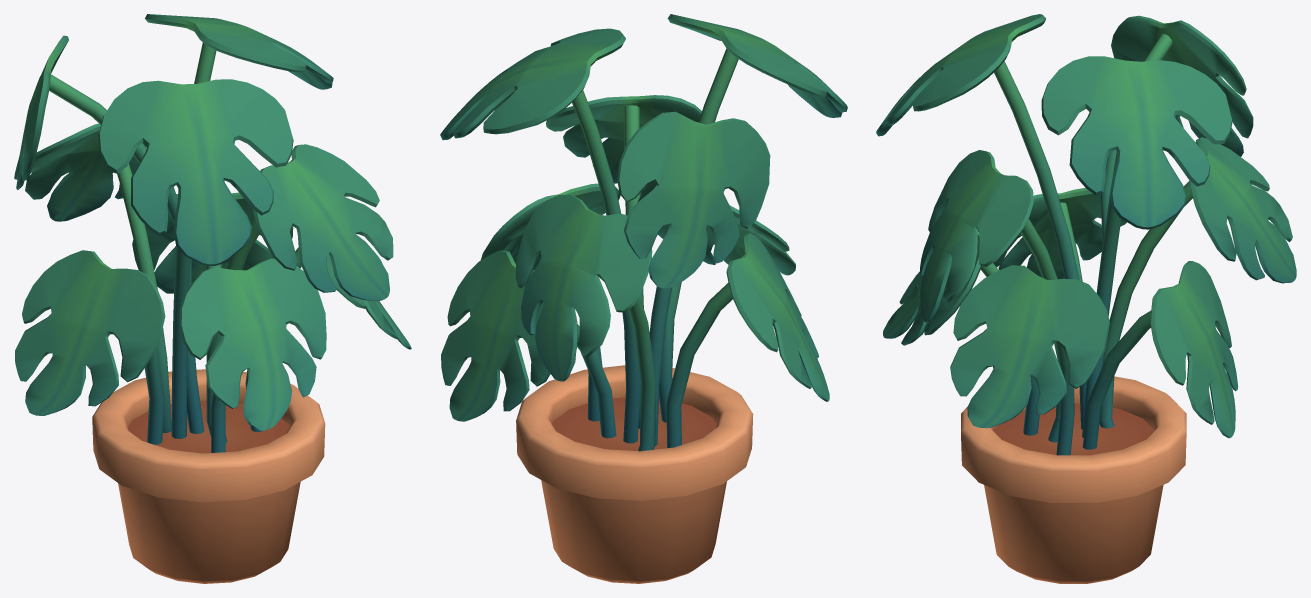
The model's file is plant.glb.
The picture shows the model from 3 angles, left to right: view 1: azimuth 30°, elevation 25°; view 2: azimuth 150°, elevation 25°; view 3: azimuth 270°, elevation 25°; orthographic projection. The views are drawn at different scales.
Parts seen in each view (by area): view 1: monstera_plant_large_potted; view 2: monstera_plant_large_potted; view 3: monstera_plant_large_potted.
Boxes of the visible parts, left/top/right/bottom form: monstera_plant_large_potted: left=14, top=14, right=411, bottom=583; monstera_plant_large_potted: left=440, top=14, right=847, bottom=583; monstera_plant_large_potted: left=876, top=14, right=1296, bottom=583.
Bounding box in the file's own units: 2.59 × 3.68 × 2.79.
Materials: 1 (1 with a texture image).
